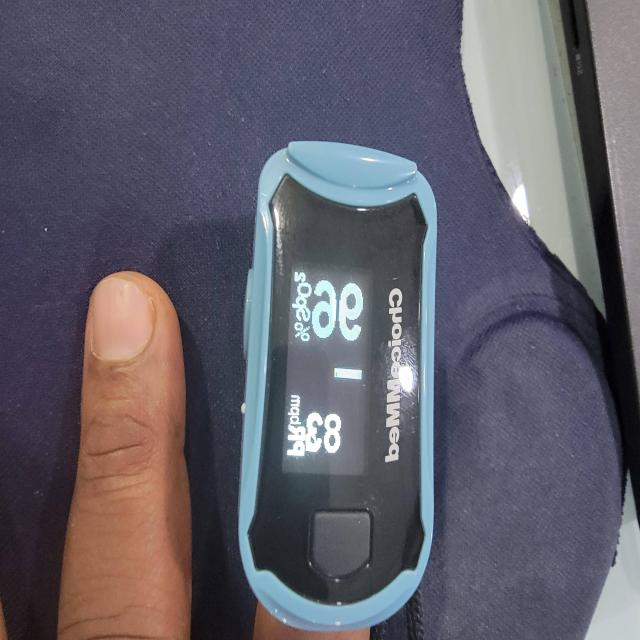spo2: (237, 141, 439, 638)
